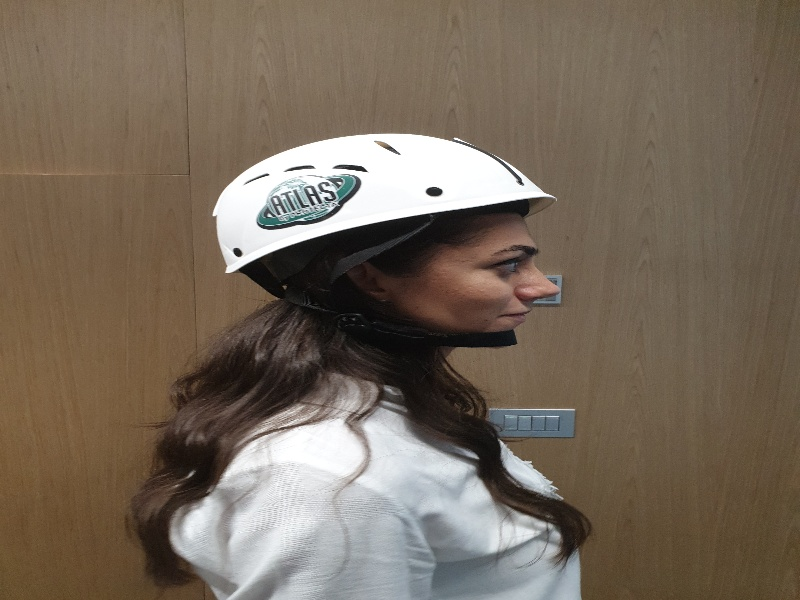Baret: (214, 131, 561, 276)
